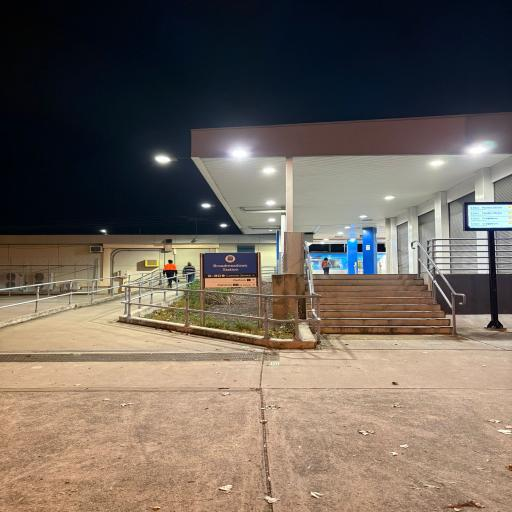handrail: (122, 285, 320, 341), (2, 271, 163, 323), (411, 240, 464, 336), (118, 272, 196, 316)
ramp: (3, 286, 183, 329)
signage: (201, 254, 260, 288), (463, 202, 512, 228)
stairs: (313, 273, 452, 333)
